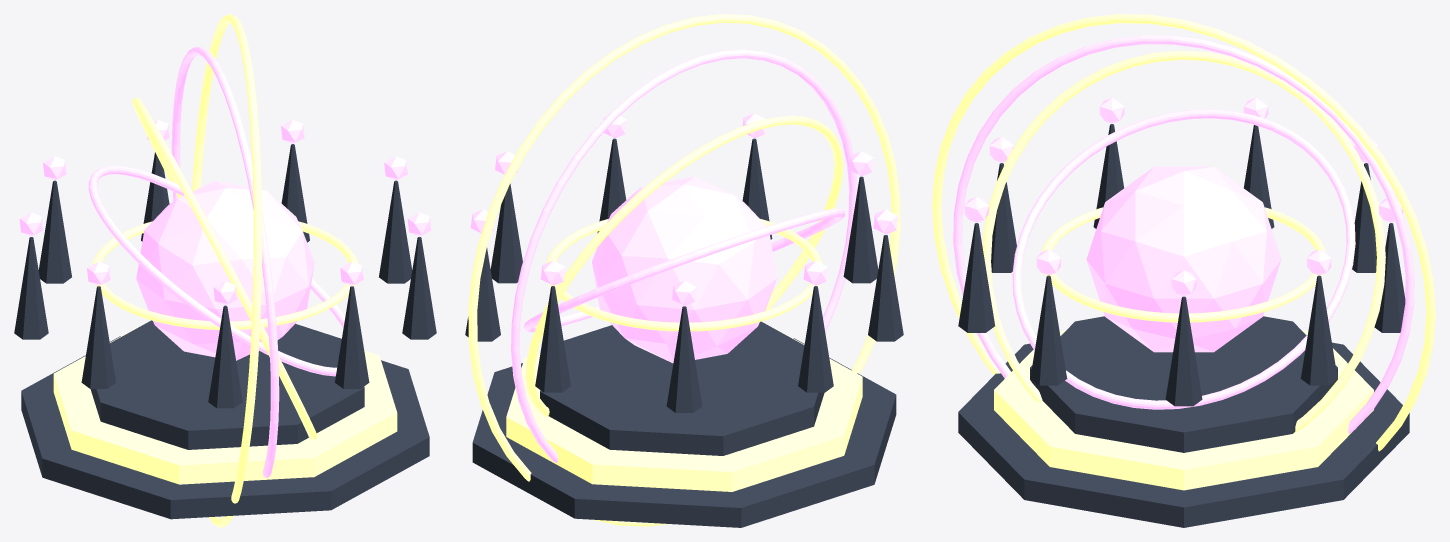
Rendered from gpu-blender-v2.glb.
3 views of the same model, side by side, from view 1: azimuth 30°, elevation 25°; view 2: azimuth 150°, elevation 25°; view 3: azimuth 270°, elevation 25° (orthographic). The views are drawn at different scales.
Parts seen in each view (by area): view 1: Cylinder.002, Cylinder, SovereignCore_mcp-lens, Cylinder.001, Torus.004, Torus.003, Torus.001, Torus.002, Torus, Cone.006, Cone.004, Cone.008 (+6 smaller); view 2: Cylinder.002, SovereignCore_mcp-lens, Cylinder, Cylinder.001, Torus.004, Torus.003, Torus.002, Torus.001, Torus, Cone.005, Cone.002, Cone.004 (+6 smaller); view 3: SovereignCore_mcp-lens, Cylinder.002, Cylinder, Cylinder.001, Torus.004, Torus.003, Torus.002, Torus.001, Torus, Cone, Cone.001, Cone.008 (+6 smaller).
Boxes of the visible parts, x1,y1,x2,y2 form: Cylinder.002: (90, 320, 364, 449); Cylinder: (21, 336, 429, 519); SovereignCore_mcp-lens: (136, 181, 314, 360); Cylinder.001: (53, 327, 397, 484); Torus.004: (192, 14, 262, 527); Torus.003: (171, 46, 279, 479); Torus.001: (88, 165, 345, 376); Torus.002: (132, 97, 317, 439); Torus: (92, 221, 358, 329); Cone.006: (208, 305, 242, 408); Cone.004: (14, 237, 48, 339); Cone.008: (402, 237, 436, 339); Cylinder.002: (540, 321, 824, 455); SovereignCore_mcp-lens: (592, 176, 776, 363); Cylinder: (472, 338, 896, 527); Cylinder.001: (506, 329, 862, 491); Torus.004: (468, 14, 900, 526); Torus.003: (511, 49, 857, 462); Torus.002: (525, 115, 843, 416); Torus.001: (523, 208, 844, 332); Torus: (546, 219, 822, 331); Cone.005: (868, 235, 903, 341); Cone.002: (535, 286, 570, 392); Cone.004: (798, 286, 833, 392); SovereignCore_mcp-lens: (1086, 166, 1281, 352); Cylinder.002: (1030, 316, 1337, 452); Cylinder: (958, 342, 1409, 527); Cylinder.001: (994, 330, 1373, 490); Torus.004: (932, 14, 1435, 451); Torus.003: (953, 35, 1414, 433); Torus.002: (983, 50, 1385, 432); Torus.001: (1012, 109, 1355, 409); Torus: (1042, 207, 1325, 322); Cone: (1165, 296, 1202, 406); Cone.001: (1300, 275, 1337, 385); Cone.008: (1030, 275, 1067, 385).
Size of the model in its own units: 4.41 by 5.33 by 4.9.
